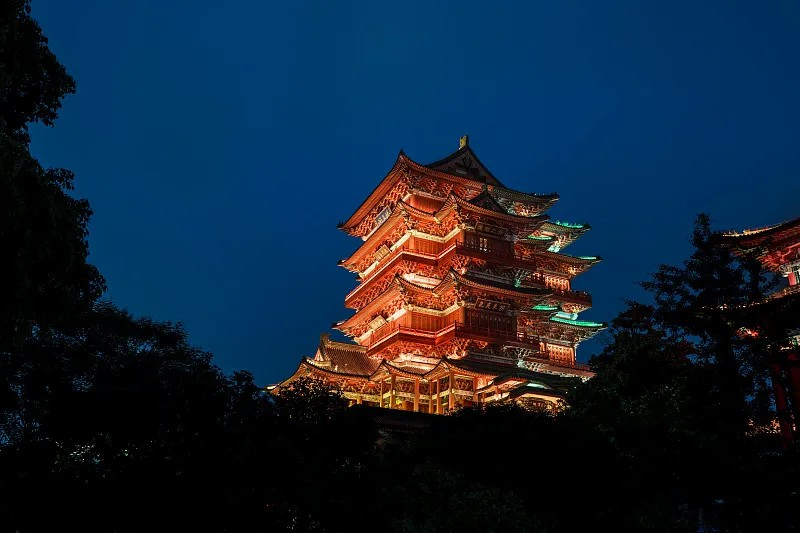Teng: (264, 134, 610, 414)
